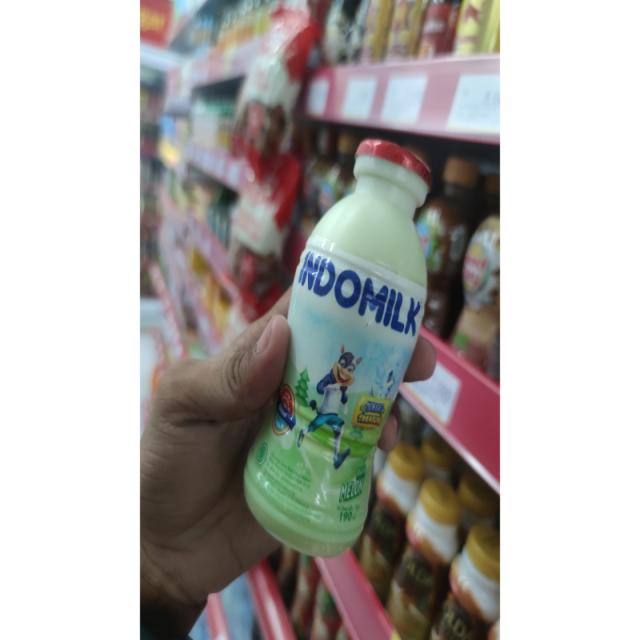botol: (221, 108, 467, 572)
